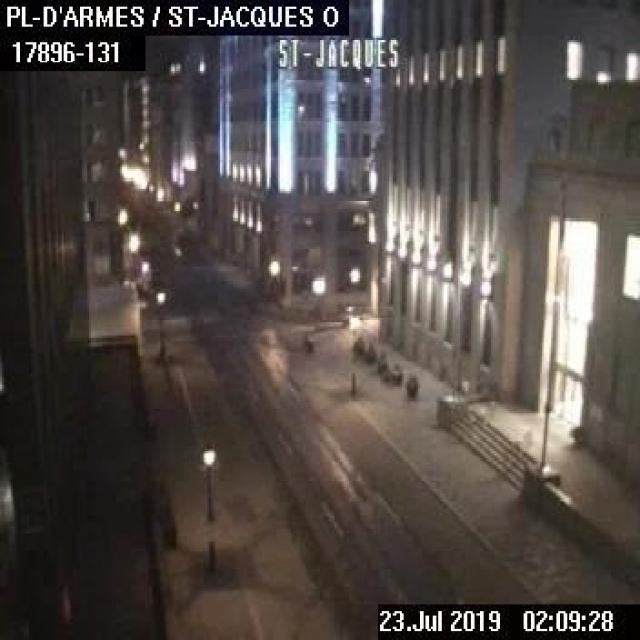vehicle: (171, 232, 193, 262)
